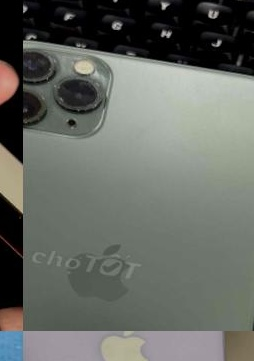scratch: (23, 44, 111, 144), (13, 206, 23, 226)
